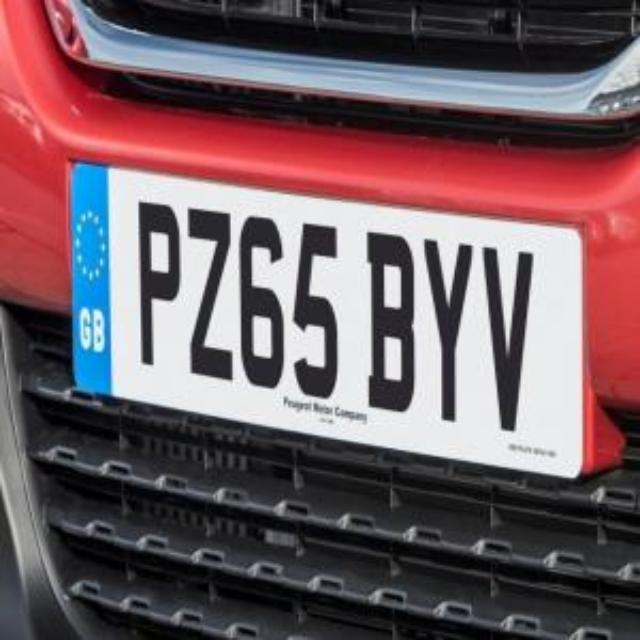License Plate: (70, 162, 584, 477)
